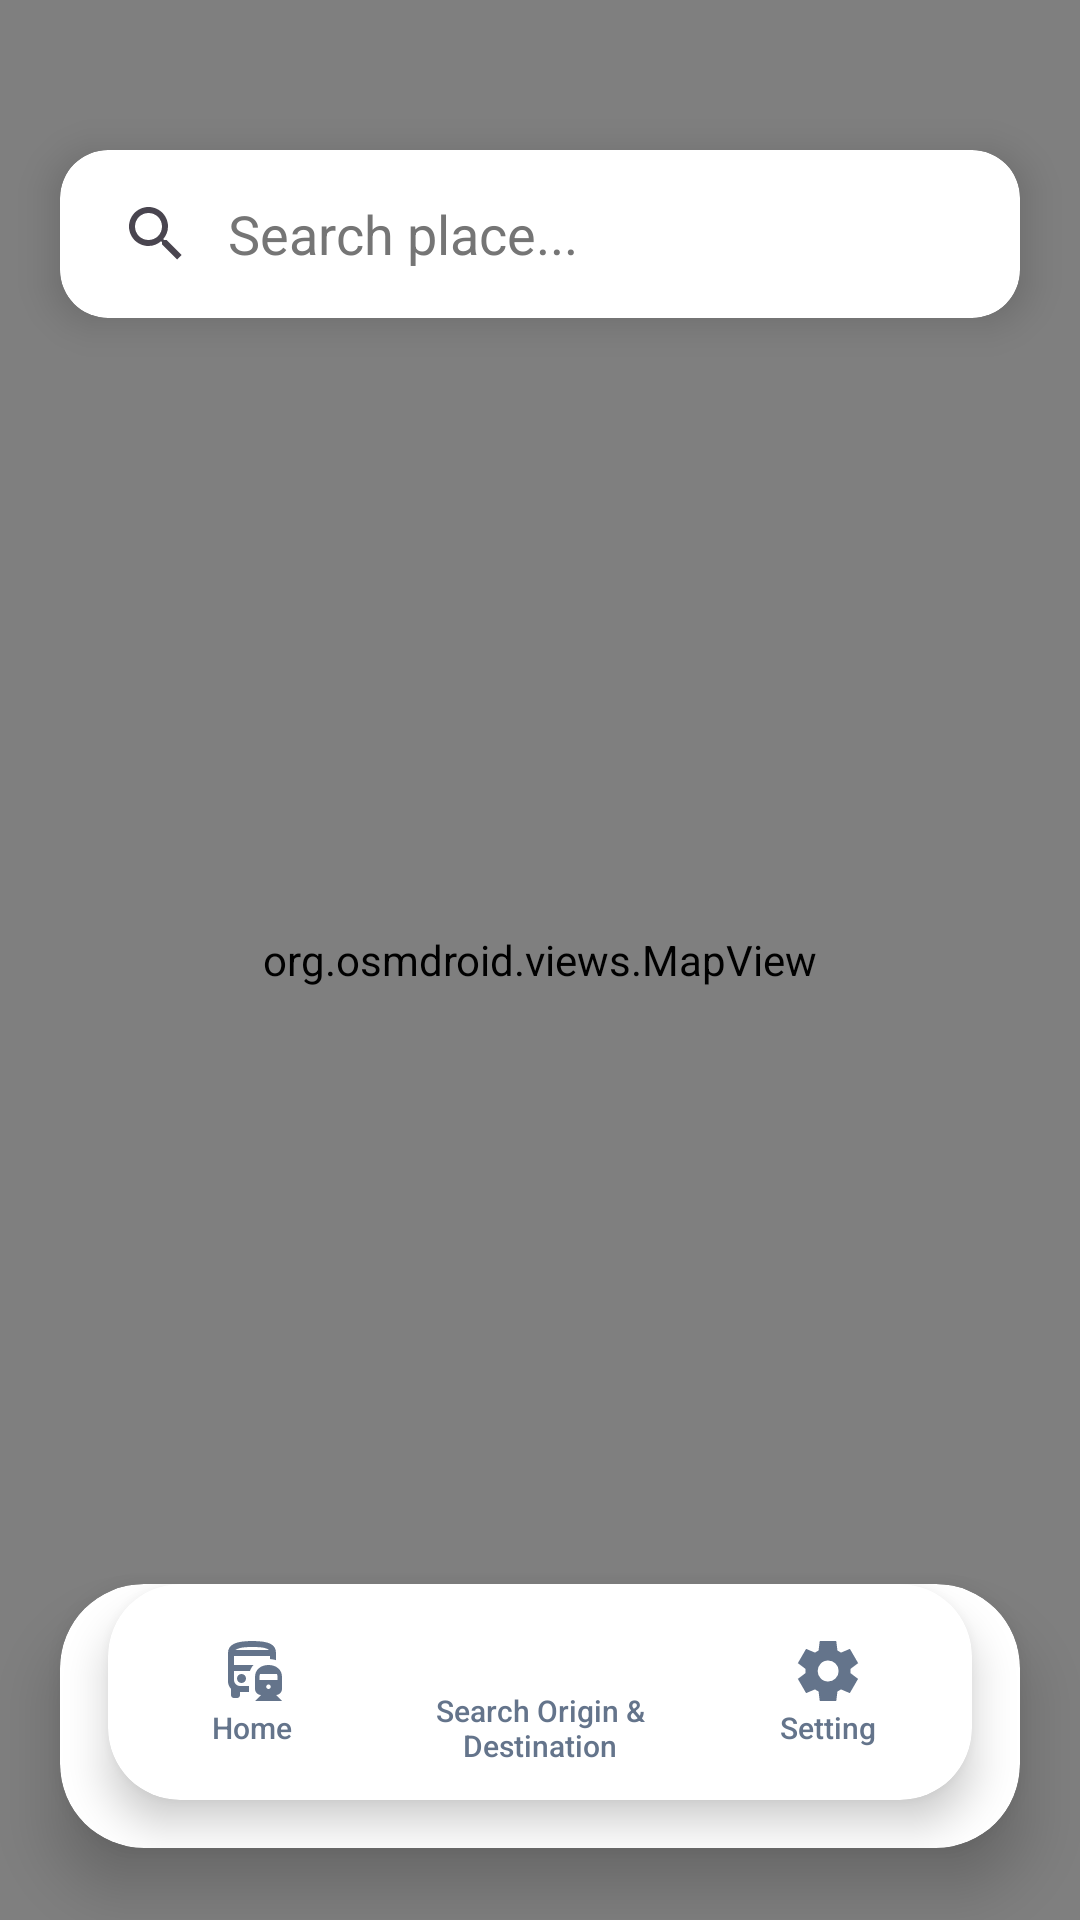

Point at icon controls on the screen. Image size 1080px x 1920px, points as (x,y).
bus railway: (255,1671)
